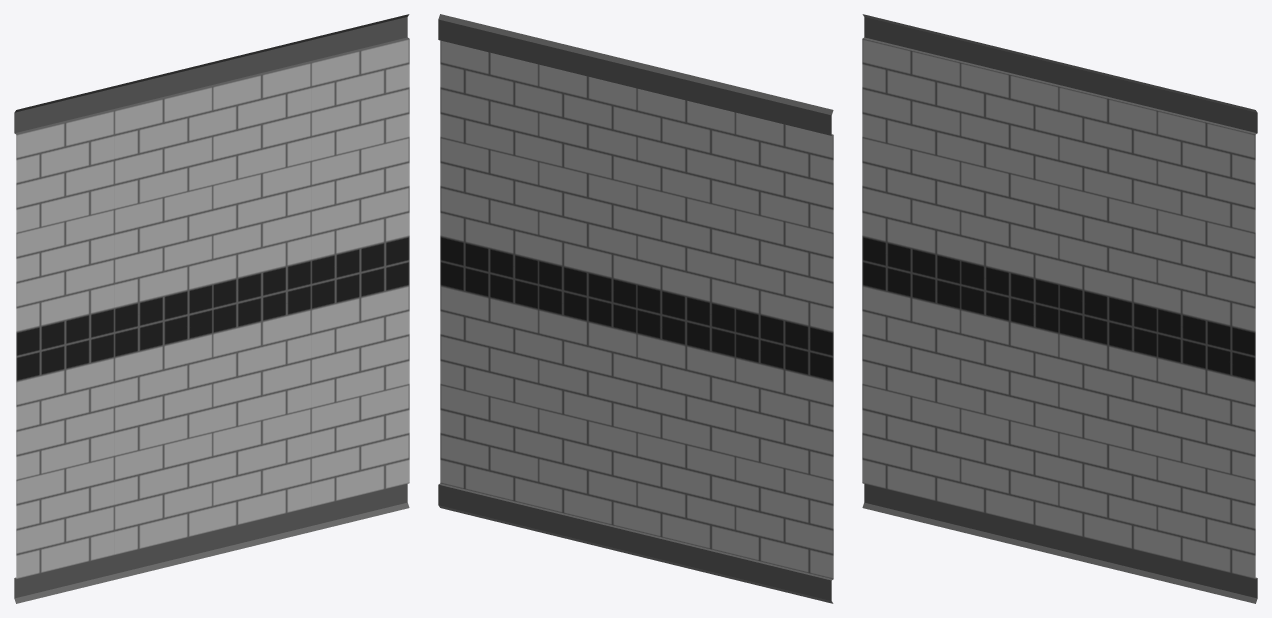
The model's file is SW_ENV_StationWall_A_2-5m.fbx.
The picture shows the model from 3 angles, left to right: view 1: azimuth 30°, elevation 25°; view 2: azimuth 150°, elevation 25°; view 3: azimuth 330°, elevation 25°; orthographic projection.
Parts seen in each view (by area): view 1: SW_ENV_StationWall_A_2-5m; view 2: SW_ENV_StationWall_A_2-5m; view 3: SW_ENV_StationWall_A_2-5m.
Part boxes in pixels (x1,y1,x2,y2): SW_ENV_StationWall_A_2-5m: (14, 14, 409, 603); SW_ENV_StationWall_A_2-5m: (438, 14, 833, 603); SW_ENV_StationWall_A_2-5m: (862, 14, 1257, 603).
Bounding box in the file's own units: 250 × 300 × 2.
